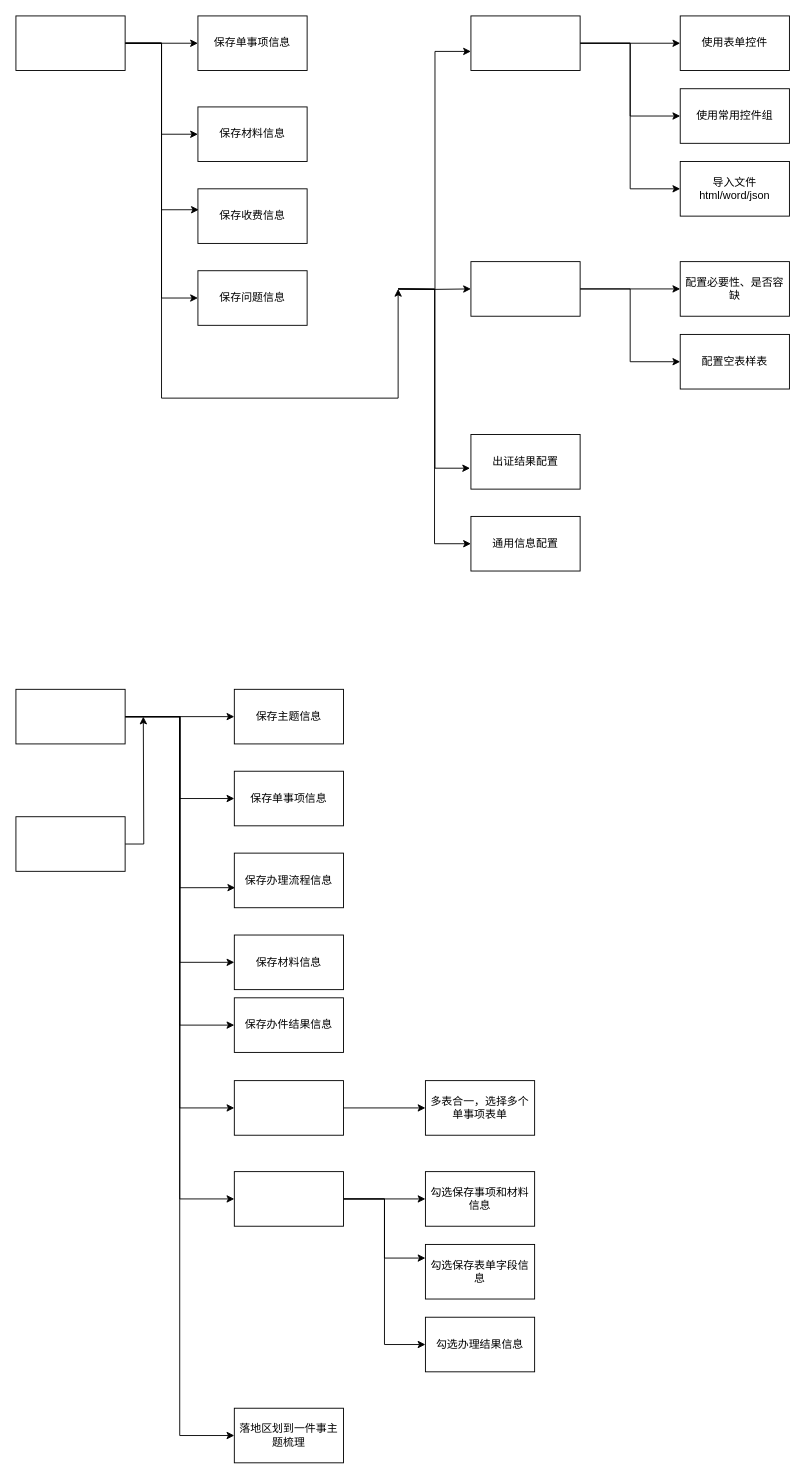
Some shapes in this 805 by 1479 pixel diagram are drawn without their labels. Each missing label, with the centre of its shape:
"一件事主题标准配置" belongs at [70,716].
"一件事主题梳理" belongs at [70,843].
"事项材料配置" belongs at [525,288].
"事项表单配置" belongs at [525,43].
"保存情形信息" belongs at [288,1198].
"保存表单信息" belongs at [288,1107].
"单事项配置" belongs at [70,43].
